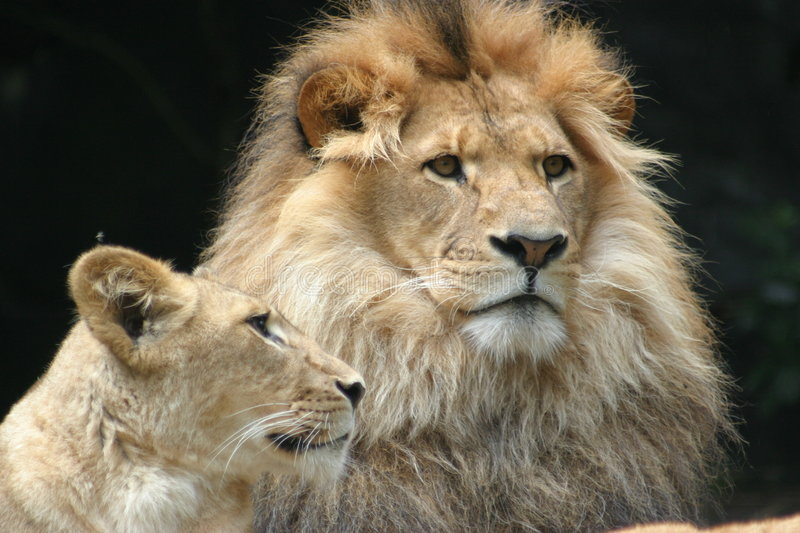lion: (265, 26, 641, 379), (62, 249, 371, 497)
